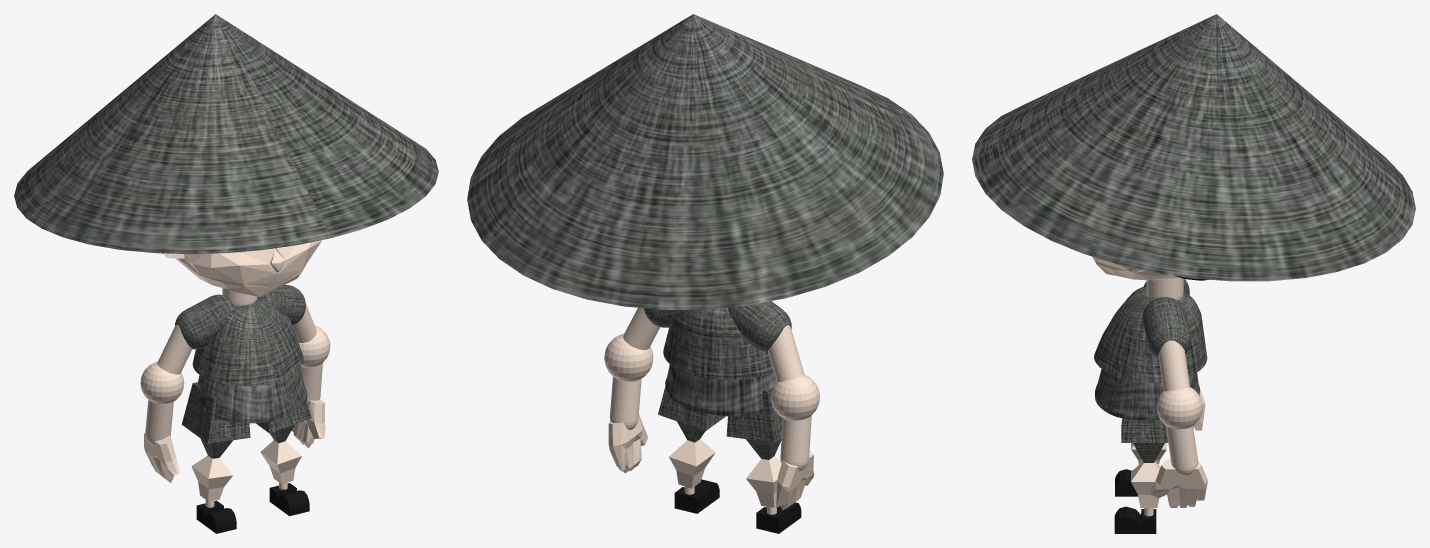
The model's file is player1.0.fbx.
3 renders of one model, left to right at view 1: azimuth 30°, elevation 25°; view 2: azimuth 150°, elevation 25°; view 3: azimuth 270°, elevation 25°, orthographic. The views are drawn at different scales.
Parts seen in each view (by area): view 1: player_hat, 圆锥_1, 球体_2, pp, player_leftleg1, player_rightarm1, 球体, player_right1, player_leftleg1_3, player_leftarm1, player_righthand, player_rightarm2 (+8 smaller); view 2: player_hat, 圆锥_1, pp, player_leftleg1, player_rightarm1, 球体, left, player_lefthand, player_leftleg1_3, player_leftleg, player_rightarm3, player_leftarm3 (+6 smaller); view 3: player_hat, 圆锥_1, pp, player_leftarm1, player_lefthand, left, player_leftleg, player_leftarm2, player_leftarm3, player_leftfoot, player_leftleg1_3, 球体_2 (+1 smaller).
Part boxes in pixels (x1,y1,x2,y2): player_hat: (14, 14, 438, 254); 圆锥_1: (192, 298, 303, 386); 球体_2: (163, 240, 321, 296); pp: (196, 369, 307, 423); player_leftleg1: (181, 382, 250, 458); player_rightarm1: (175, 294, 234, 349); 球体: (140, 362, 184, 403); player_right1: (191, 455, 232, 501); player_leftleg1_3: (260, 440, 301, 484); player_leftarm1: (257, 284, 305, 325); player_righthand: (144, 432, 179, 482); player_rightarm2: (157, 324, 192, 374); player_hat: (467, 14, 943, 309); 圆锥_1: (663, 307, 773, 379); pp: (665, 364, 776, 416); player_leftleg1: (726, 387, 782, 459); player_rightarm1: (727, 301, 791, 351); 球体: (771, 374, 819, 420); left: (604, 333, 653, 381); player_lefthand: (608, 414, 647, 473); player_leftleg1_3: (669, 439, 715, 488); player_leftleg: (658, 387, 725, 442); player_rightarm3: (780, 416, 811, 470); player_leftarm3: (609, 377, 641, 429); player_hat: (972, 14, 1415, 281); 圆锥_1: (1094, 286, 1207, 382); pp: (1095, 369, 1199, 420); player_leftarm1: (1142, 297, 1191, 358); player_lefthand: (1149, 459, 1207, 507); left: (1156, 387, 1202, 429); player_leftleg: (1121, 418, 1168, 462); player_leftarm2: (1158, 340, 1189, 391); player_leftarm3: (1165, 426, 1198, 475); player_leftfoot: (1114, 506, 1156, 533); player_leftleg1_3: (1131, 461, 1160, 507); 球体_2: (1092, 256, 1180, 280).
Bounding box in the file's own units: 202 × 248 × 201.
Materials: 3 (1 with a texture image).
